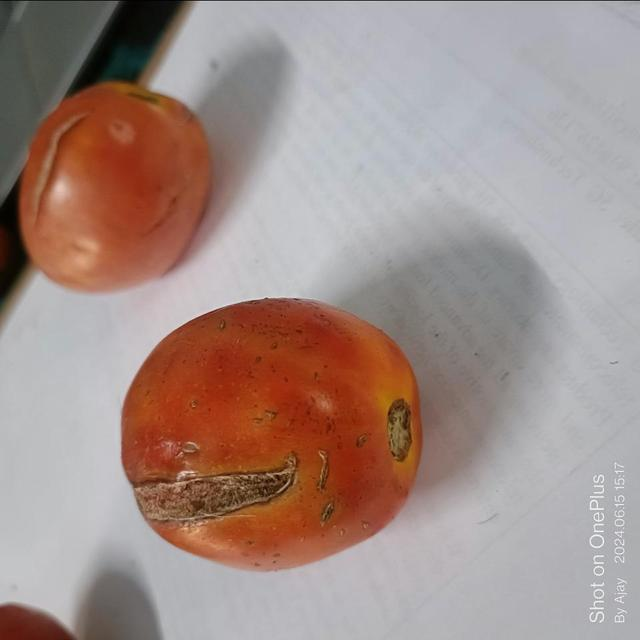Cracking Fruit: (155, 145, 238, 475)
